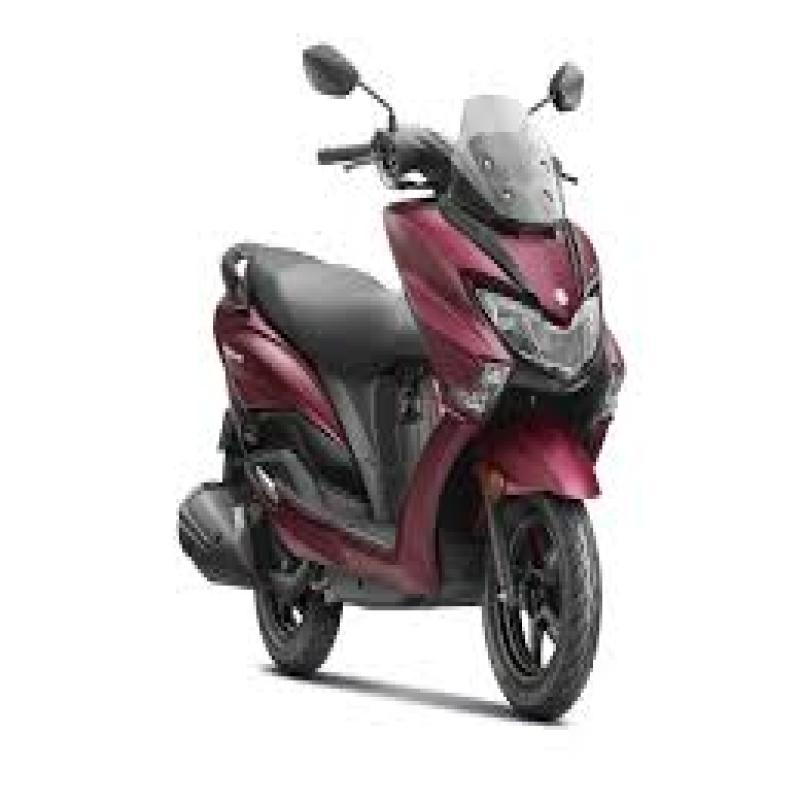bike: (181, 16, 628, 740)
